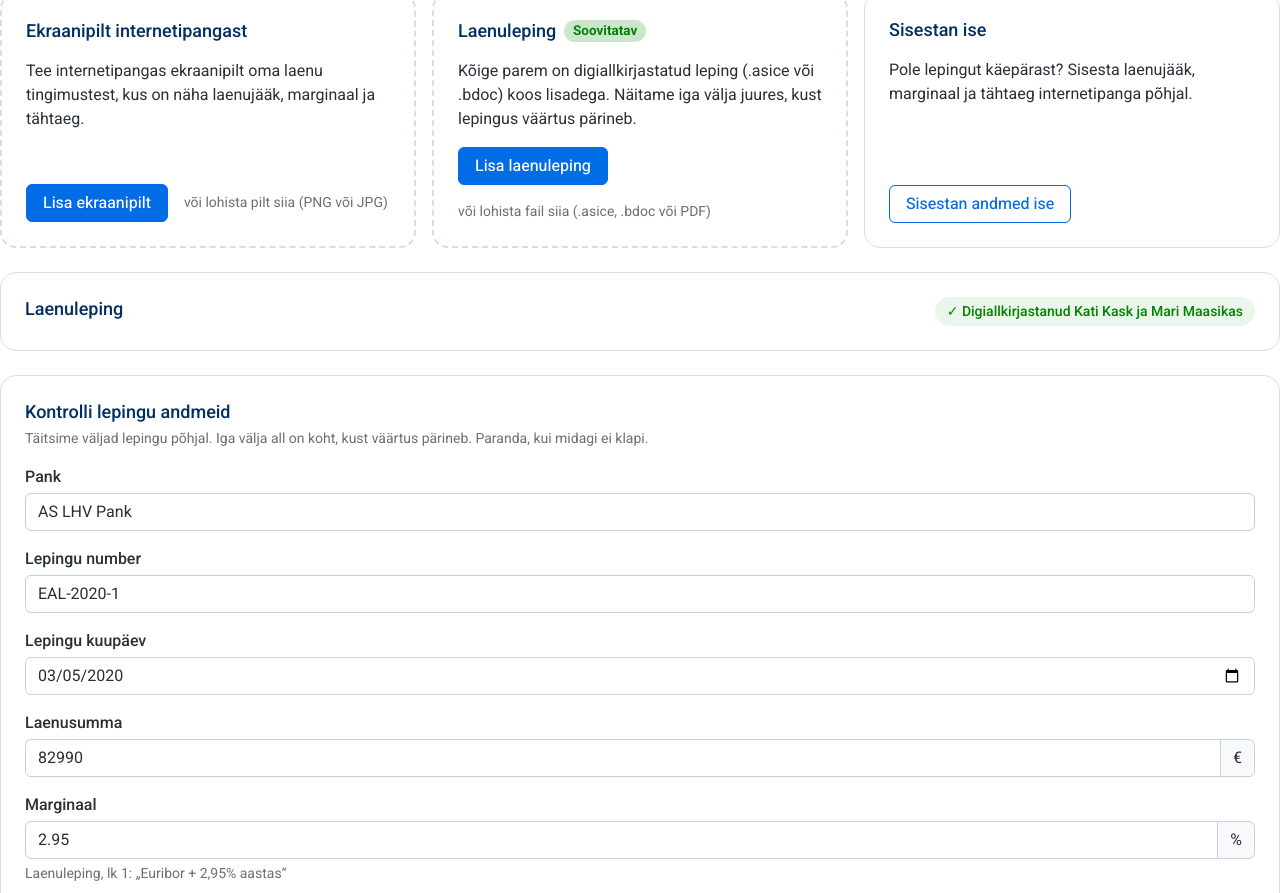
Test: LoanStep › sends the confirmed and corrected values, then shows the savings
Replace the text in the field labelled "Marginaal" with "2,85" at (622, 840), box 25,821 -> 1218,859
(page scrolled)
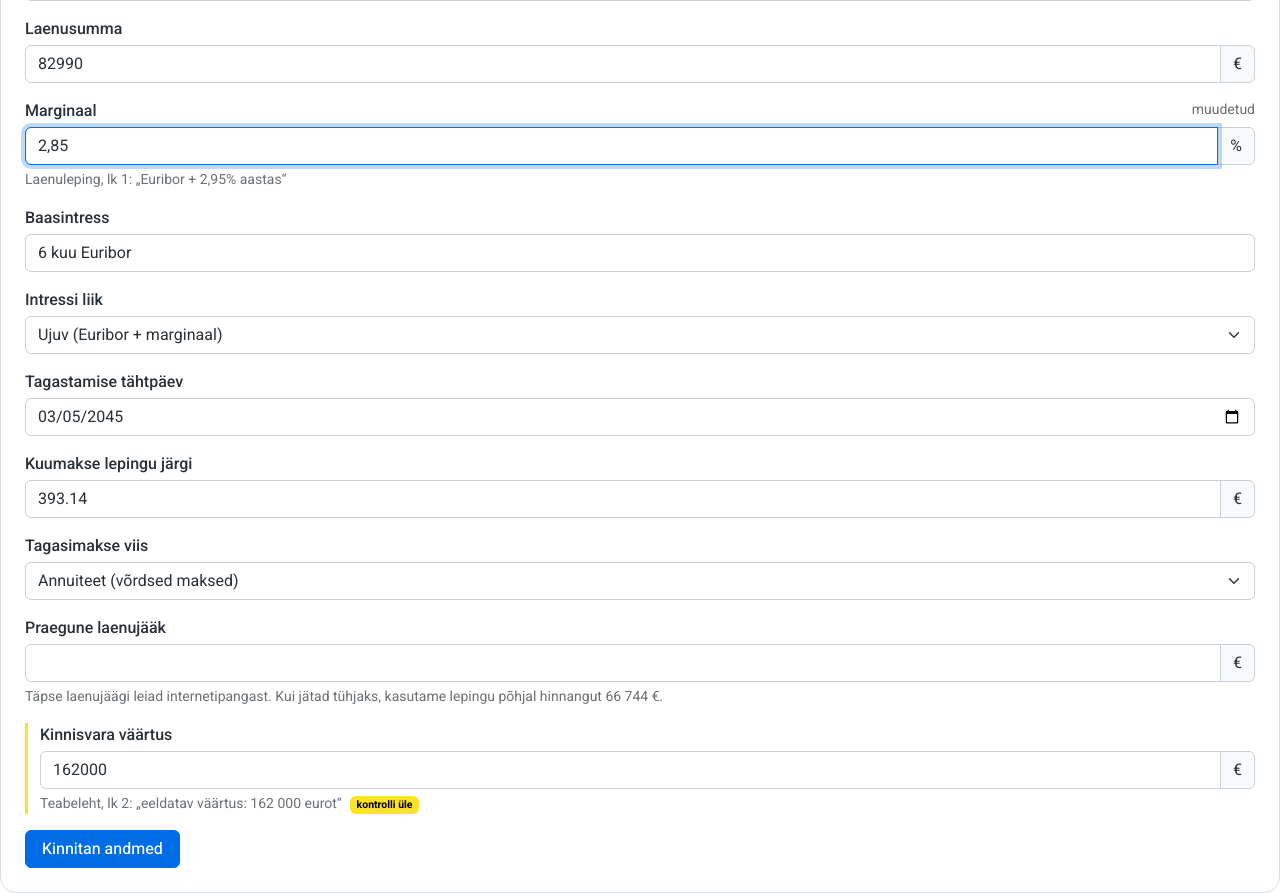
Expected: the text "muudetud" is shown, 1192,101 -> 1255,117
Type "66 000" into the field labelled "Praegune laenujääk" at (623, 663), box 25,644 -> 1221,682
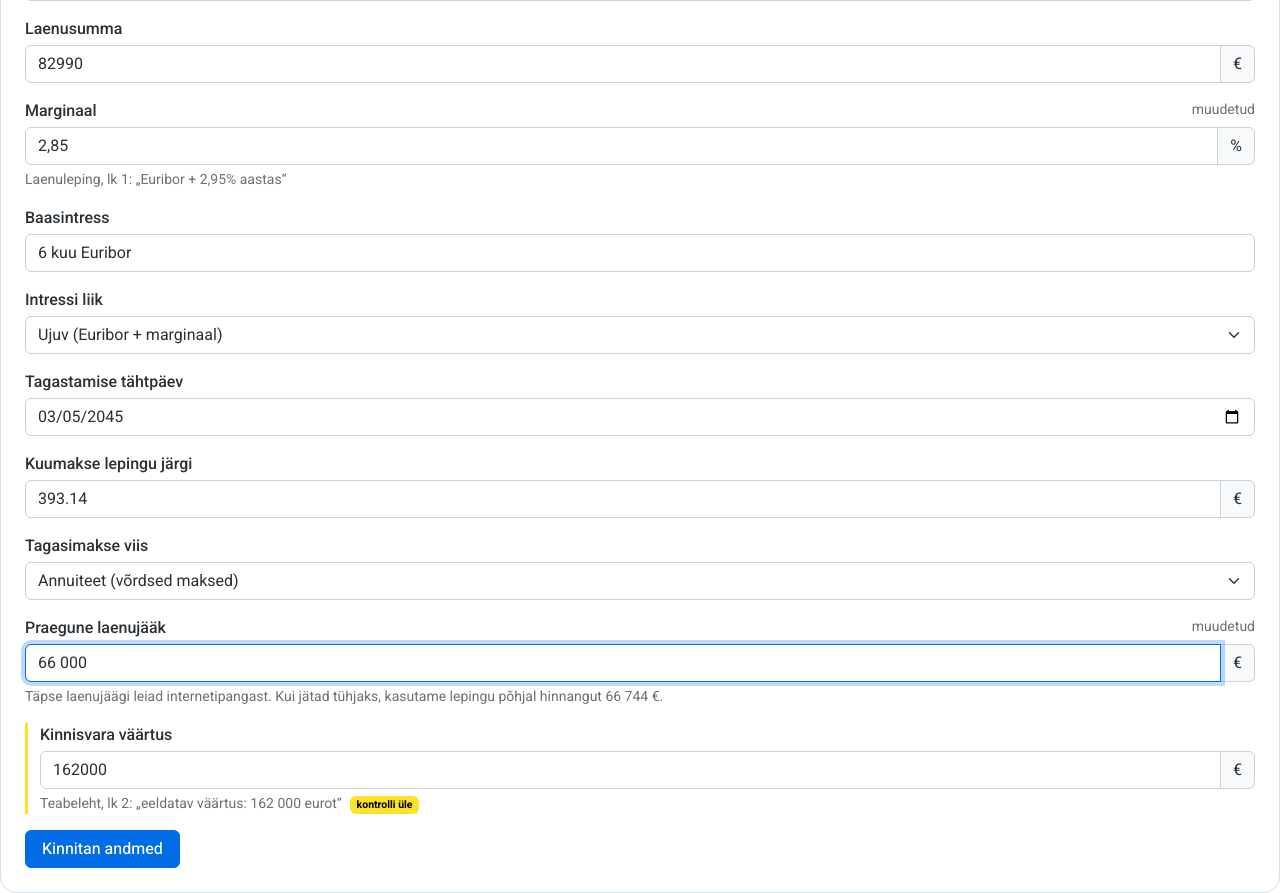
Click the button "Kinnitan andmed" at (102, 849), box 25,830 -> 180,868
(page scrolled)
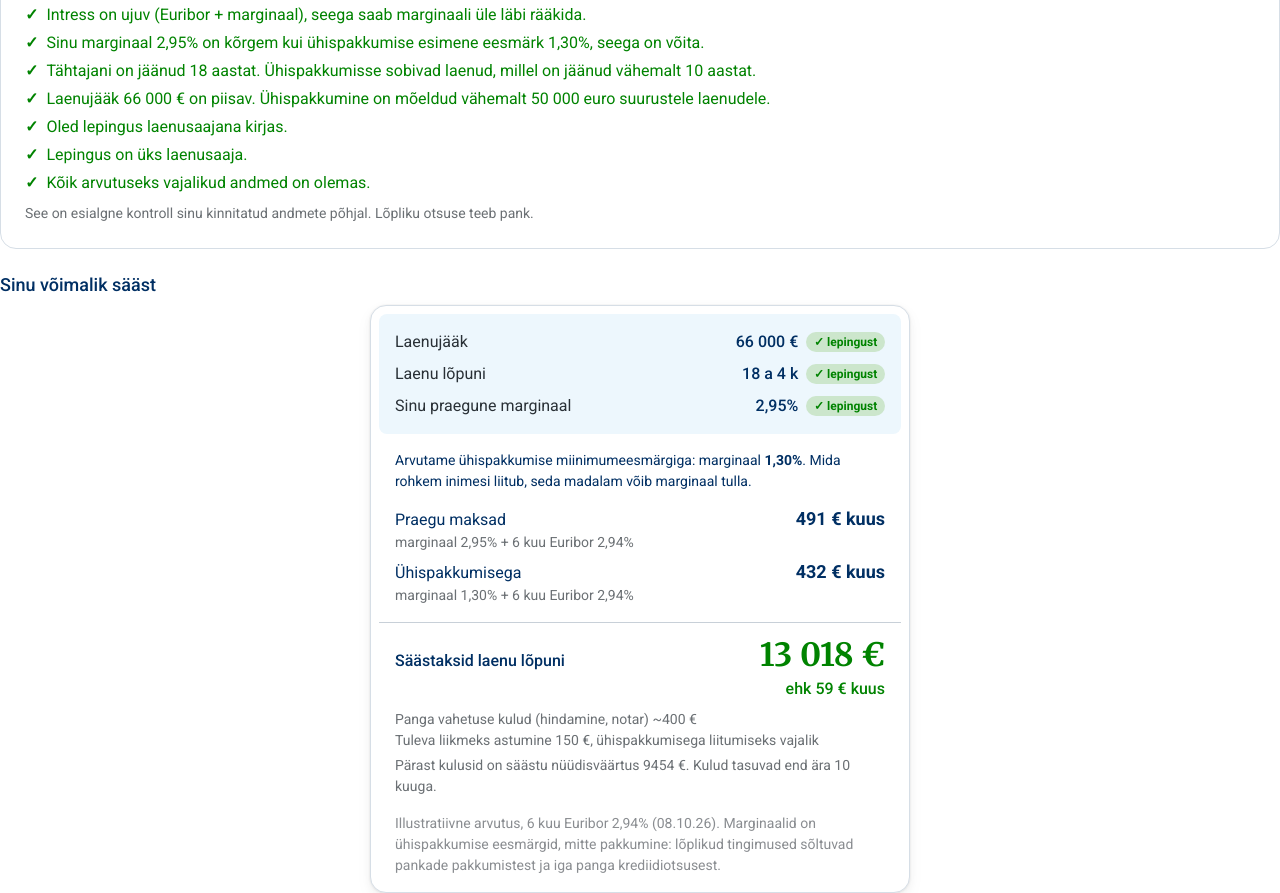
Expected: the heading "Sinu võimalik sääst" is shown, 0,274 -> 156,295
